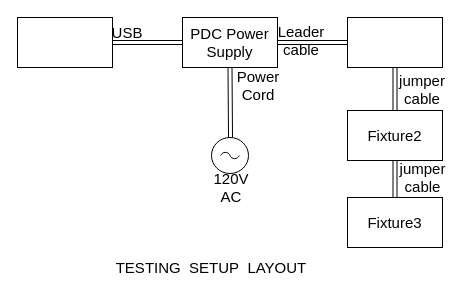
This 465x295 diagram has some shape labels left out. Here are the shapes that lost their labels. From the top down, the centre of each, then its label:
point 64,42: PC (TestDMX)
point 394,42: Fixture1
